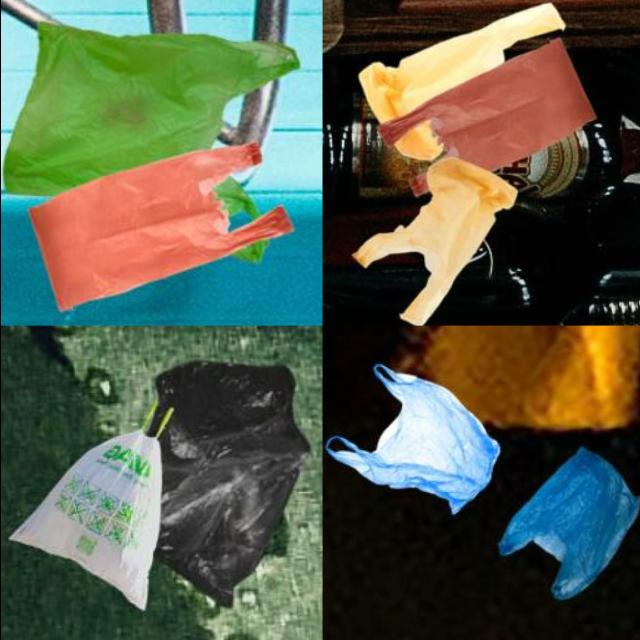plastik: (4, 24, 299, 195), (28, 143, 292, 310), (157, 363, 307, 606), (378, 39, 595, 171), (353, 157, 517, 326), (10, 430, 161, 609), (325, 364, 499, 514), (359, 4, 564, 123), (498, 448, 639, 600)
